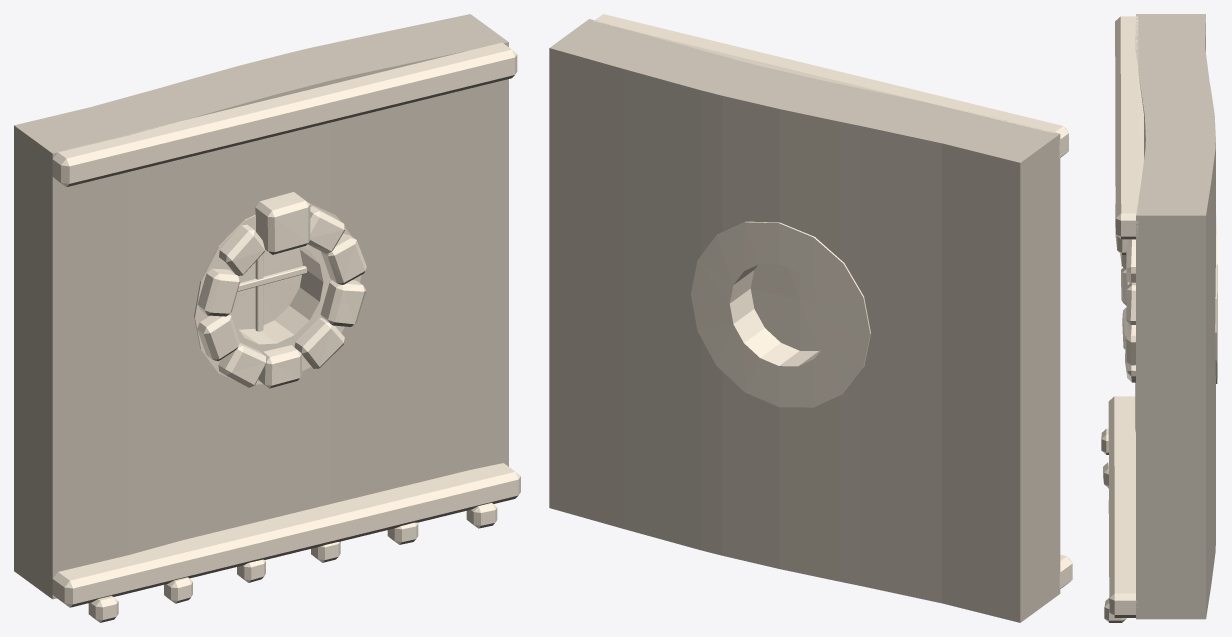
Rendered from SM_VK_Wall_PlasterUp_Oxeye.fbx.
3 views of the same model, side by side, from view 1: azimuth 30°, elevation 25°; view 2: azimuth 150°, elevation 25°; view 3: azimuth 270°, elevation 25° (orthographic). The views are drawn at different scales.
Parts seen in each view (by area): view 1: SM_VK_Wall_PlasterUp_Oxeye.001; view 2: SM_VK_Wall_PlasterUp_Oxeye.001; view 3: SM_VK_Wall_PlasterUp_Oxeye.001.
Part boxes in pixels (x1,y1,x2,y2): SM_VK_Wall_PlasterUp_Oxeye.001: (14, 14, 520, 622); SM_VK_Wall_PlasterUp_Oxeye.001: (549, 14, 1072, 622); SM_VK_Wall_PlasterUp_Oxeye.001: (1101, 14, 1217, 622).
Size of the model in its own units: 3 by 2.92 by 0.7299.
